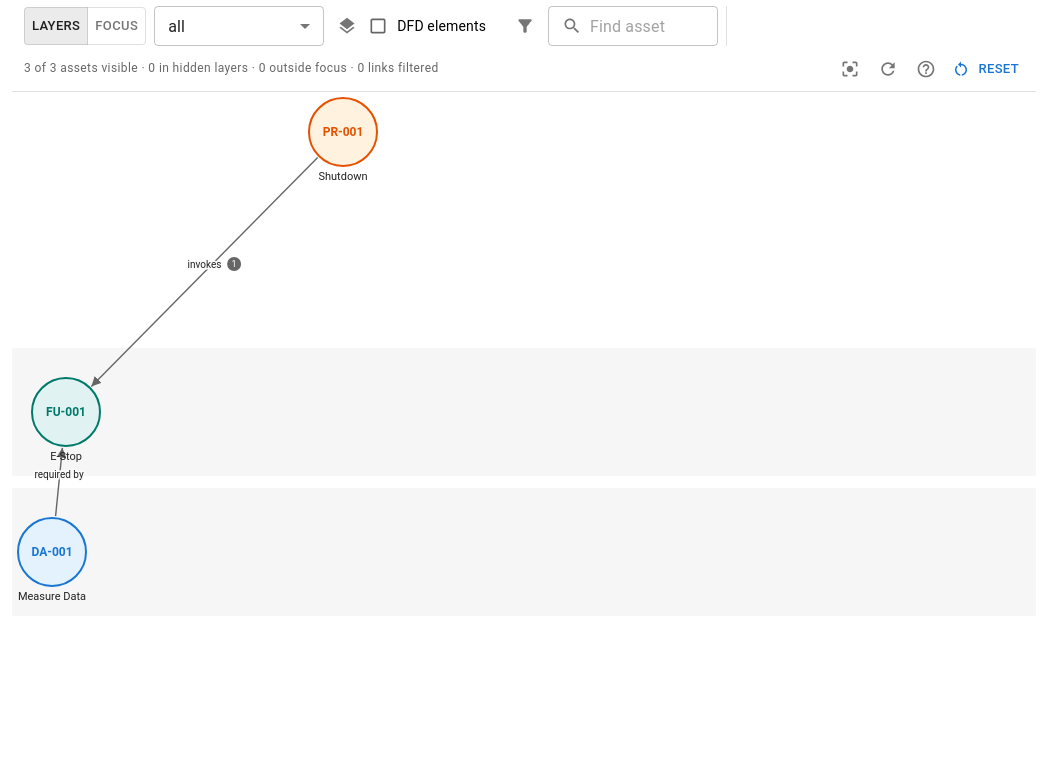
AssetGraphView › search without a match says so
Type "nothing" into the field with test id "asset-graph-search". click: (654, 26)
box: [590, 6, 718, 46]
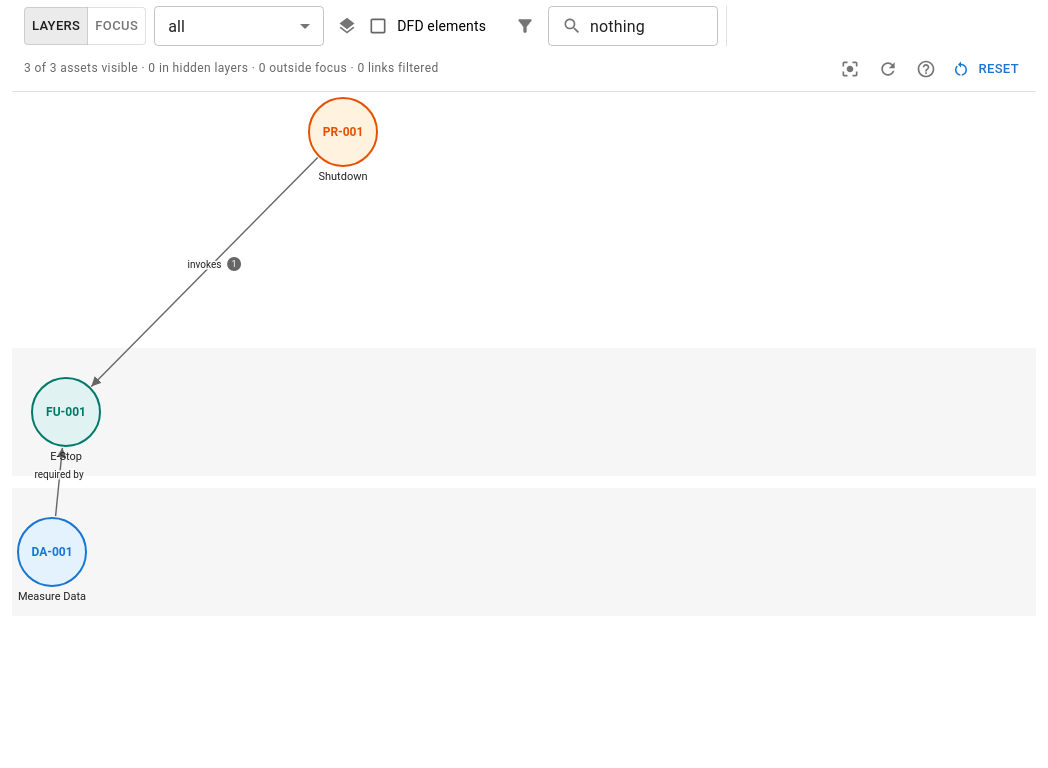
Press Enter in the field with test id "asset-graph-search", box [590, 6, 718, 46]
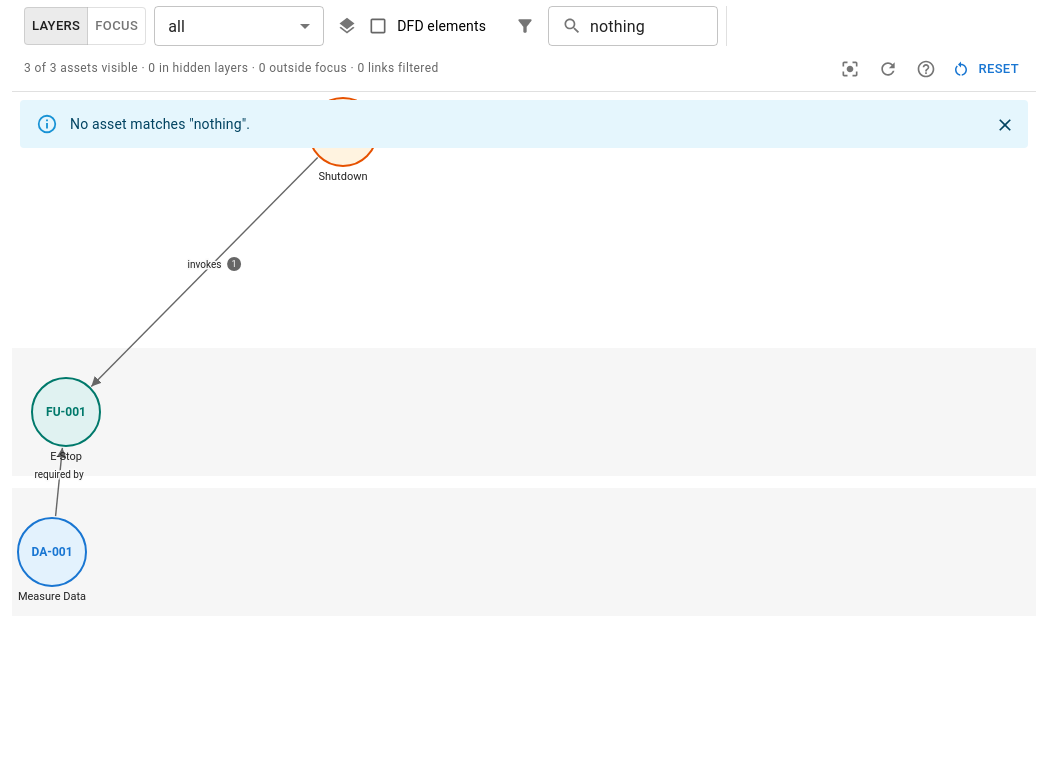
Expected: the message with test id "asset-graph-search-notice" reads "No asset matches \"nothing\".", [70, 116, 250, 132]
